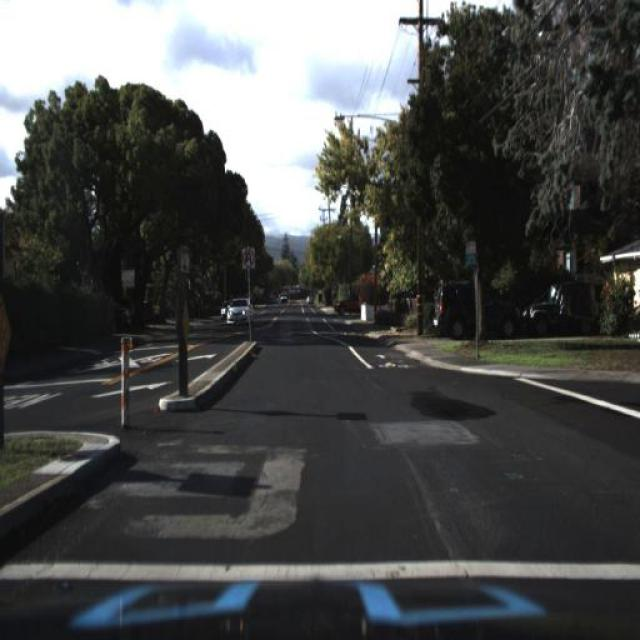car: (424, 270, 520, 340), (519, 280, 590, 340), (222, 295, 252, 334), (331, 290, 364, 319)
